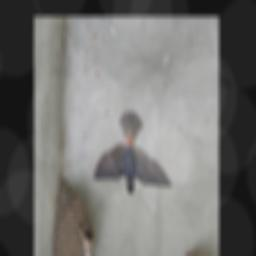Swallow: (93, 110, 175, 197)
